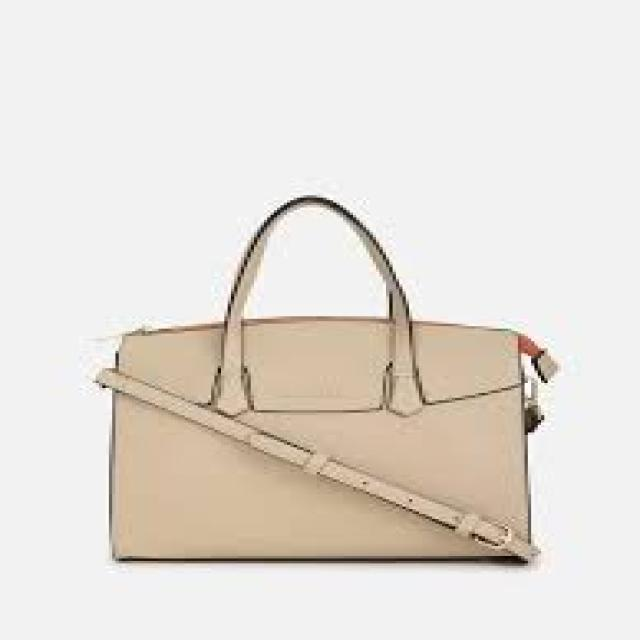handbag: (92, 193, 554, 563)
